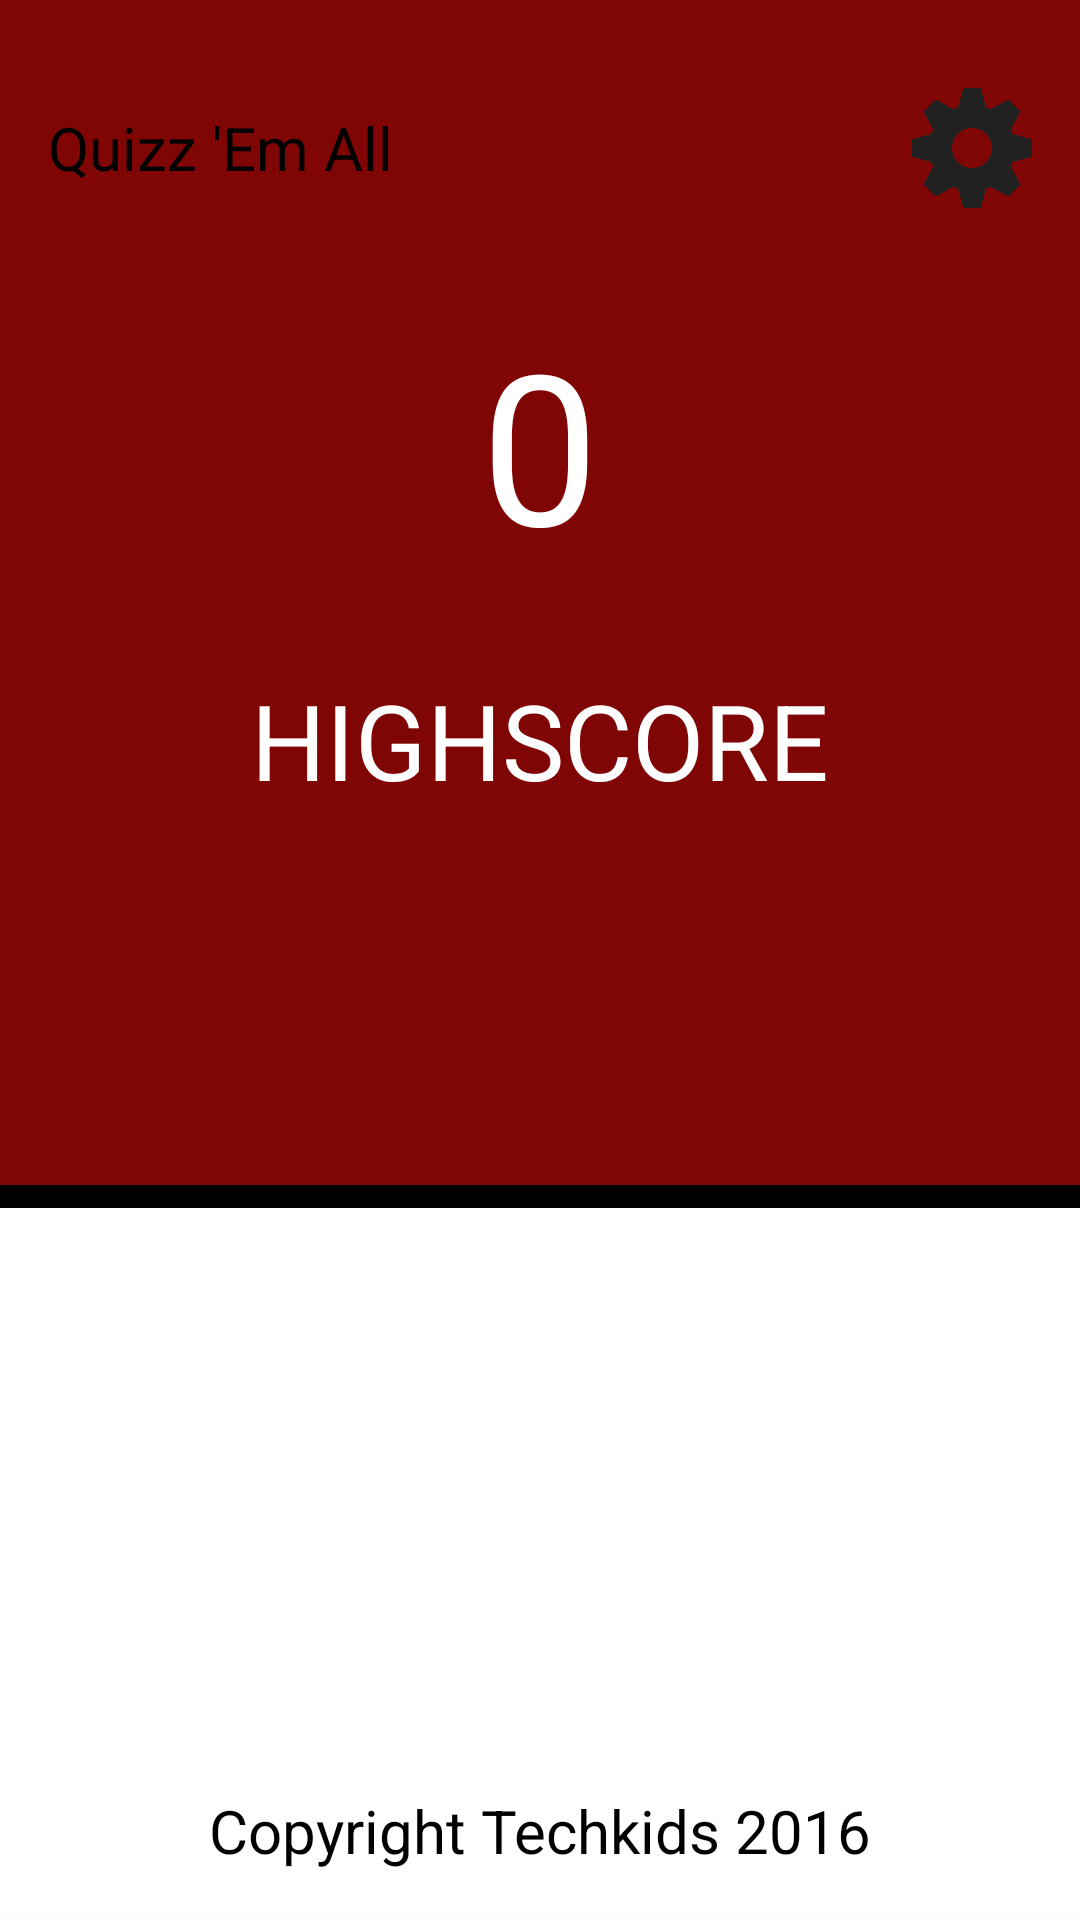

Icons on this 1080px x 1920px Android screen, each with the point to tap as (x=x, y=y):
setting: (x=972, y=148)
